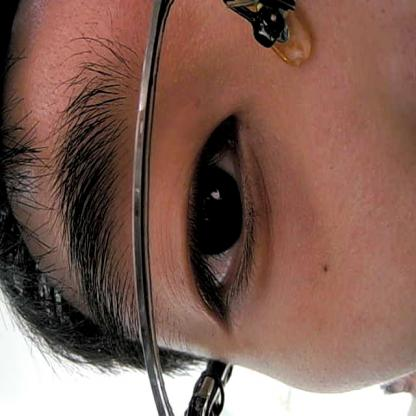Straight: (168, 105, 270, 335)
